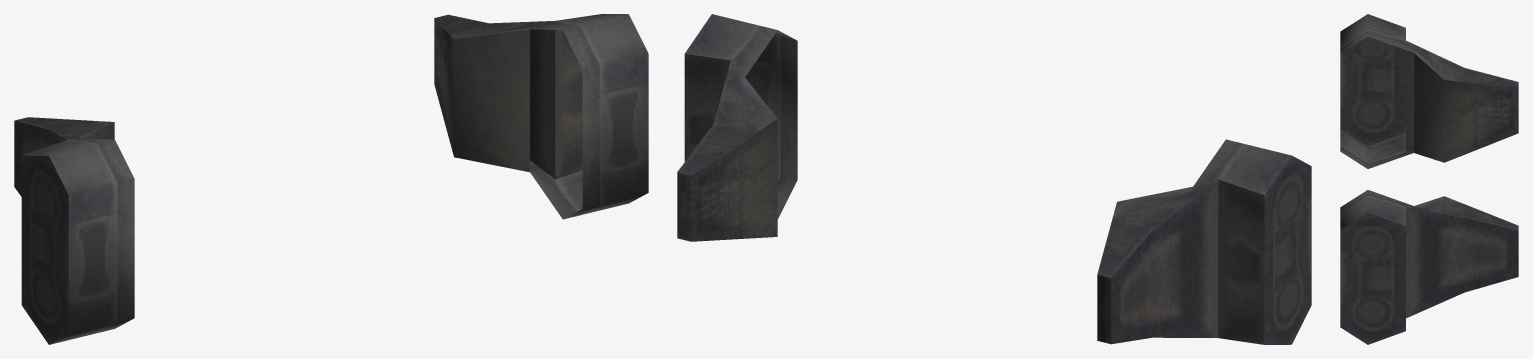
3 views of the same model, side by side, from view 1: azimuth 30°, elevation 25°; view 2: azimuth 150°, elevation 25°; view 3: azimuth 270°, elevation 25° (orthographic). The views are drawn at different scales.
Visible parts, largest first — view 1: set_0_group_0; view 2: set_0_group_0; view 3: set_0_group_0.
Part boxes in pixels (box(x1,y1,x2,y2)): set_0_group_0: box(14, 14, 648, 344); set_0_group_0: box(677, 14, 1311, 344); set_0_group_0: box(1340, 14, 1518, 344).
Bounding box in the file's own units: 0.4235 × 0.1321 × 0.1612.
1 material, 1 textured.
